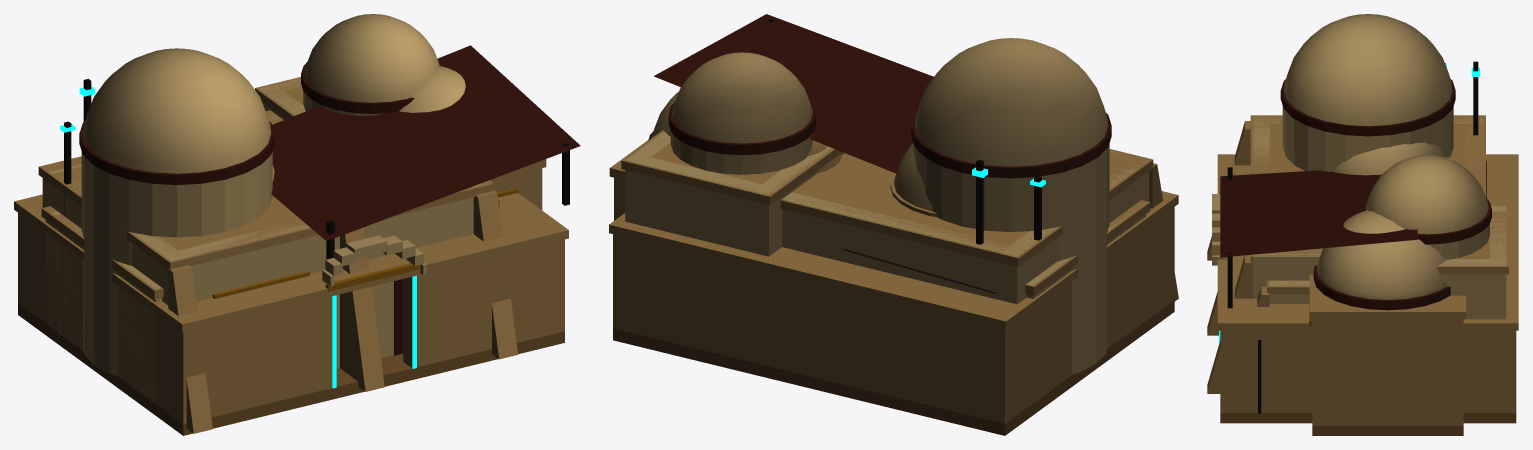
File: shaddai_desert_homes_v01.glb
3 views of the same model, side by side, from view 1: azimuth 30°, elevation 25°; view 2: azimuth 150°, elevation 25°; view 3: azimuth 270°, elevation 25° (orthographic). The views are drawn at different scales.
Parts seen in each view (by area): view 1: home_desert_arch_compound, home_desert_tower_wing, home_desert_battered_block, home_desert_twin_dome; view 2: home_desert_arch_compound, home_desert_tower_wing, home_desert_battered_block, home_desert_twin_dome; view 3: home_desert_arch_compound, home_desert_tower_wing, home_desert_twin_dome, home_desert_battered_block.
Boxes of the visible parts, x1=… form: home_desert_arch_compound: x1=14, y1=14, x2=568, y2=435; home_desert_tower_wing: x1=79, y1=45, x2=580, y2=376; home_desert_battered_block: x1=38, y1=79, x2=518, y2=433; home_desert_twin_dome: x1=41, y1=66, x2=546, y2=415; home_desert_arch_compound: x1=609, y1=52, x2=1178, y2=435; home_desert_tower_wing: x1=654, y1=14, x2=1111, y2=374; home_desert_battered_block: x1=780, y1=149, x2=1178, y2=304; home_desert_twin_dome: x1=609, y1=91, x2=1150, y2=402; home_desert_arch_compound: x1=1212, y1=154, x2=1518, y2=423; home_desert_tower_wing: x1=1220, y1=14, x2=1455, y2=308; home_desert_twin_dome: x1=1258, y1=63, x2=1466, y2=435; home_desert_battered_block: x1=1207, y1=61, x2=1485, y2=393.
Bounding box in the file's own units: 13.24 × 9 × 9.48.
